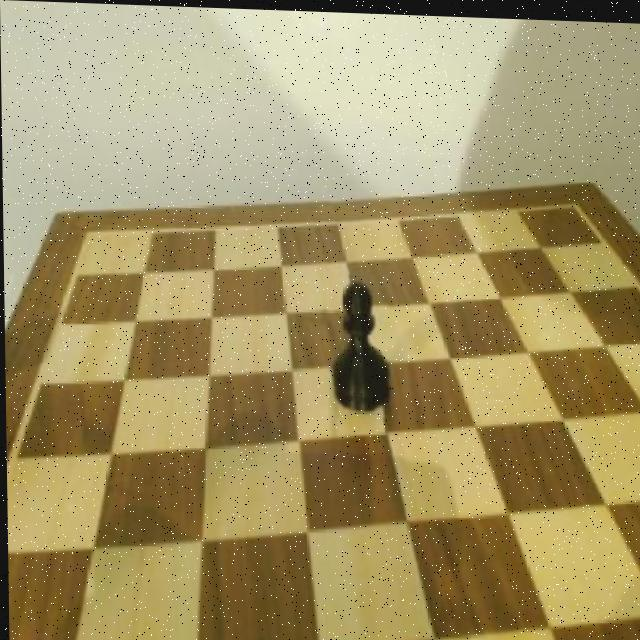black-knight: (325, 271, 391, 418)
